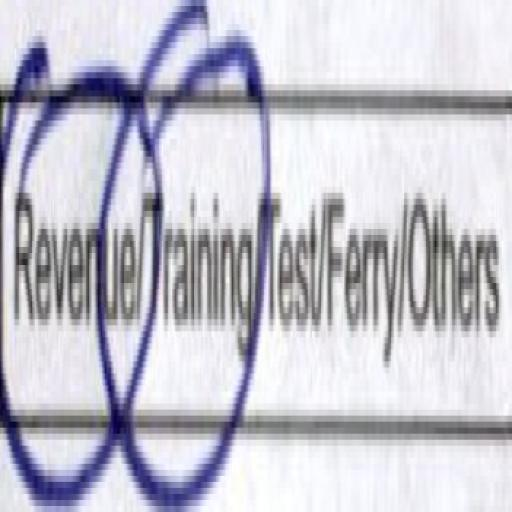check: (0, 0, 137, 512), (140, 2, 255, 512)
